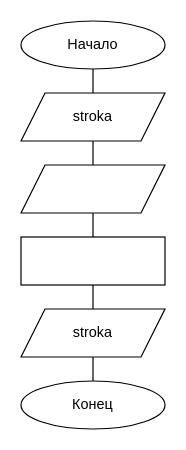
This 186x450 diagram has some shape labels left out. Here are the shapes that lost their labels. From the top down, the centre of each, then its label:
(92,188): character
(92,260): remove(begin(stroka), end(stroka), character)
